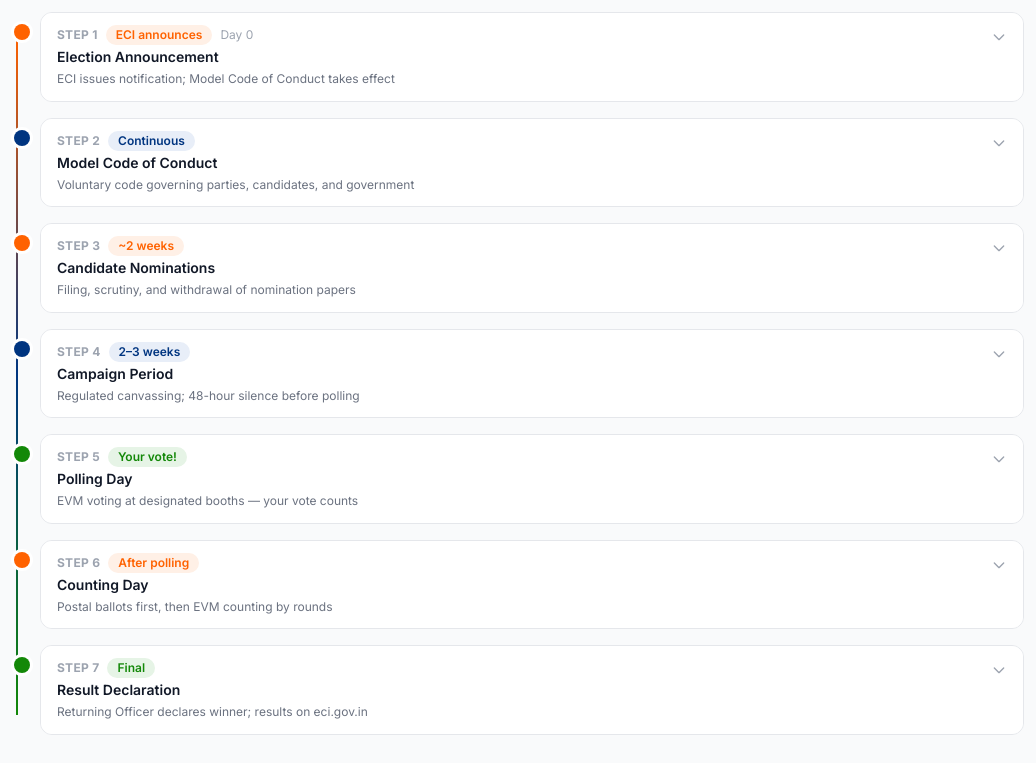
Test case: TimelineView › expands an item when clicked
Click the 1st button.
click(75, 34)  # box [41,13,1023,100]
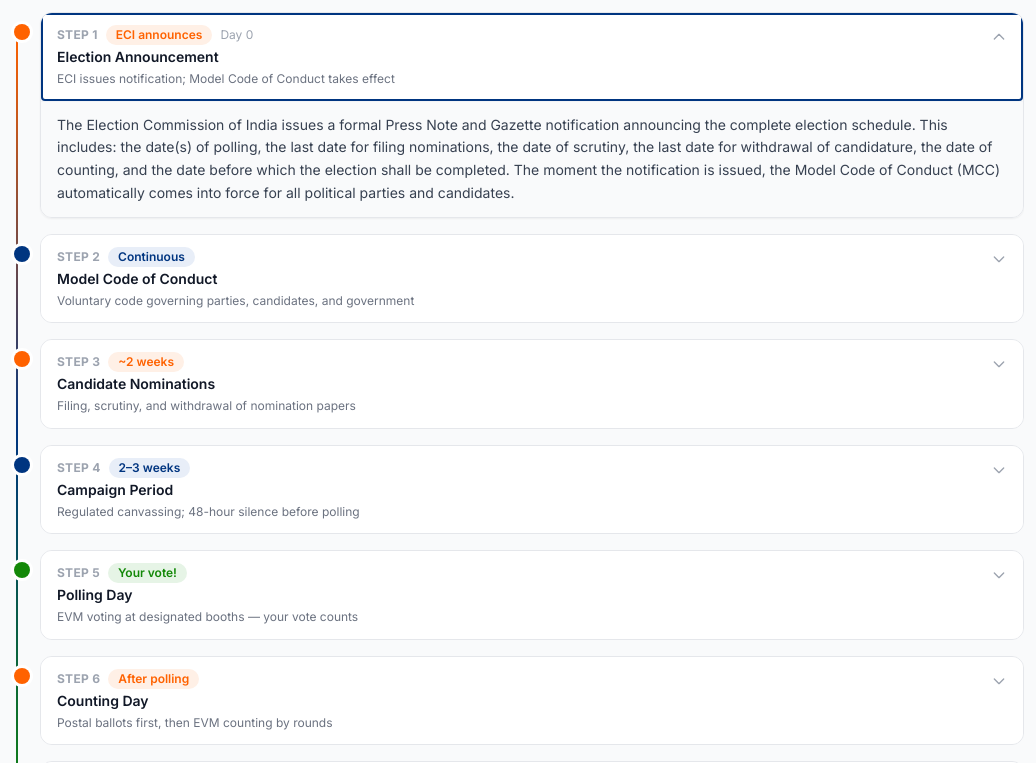
expect the 1st button is expanded: met, box [41,13,1023,100]
expect the text "The Election Commission of India issues a formal Press Note and Gazette notification announcing the complete election sc" is shown: met, box [57,116,1000,201]
